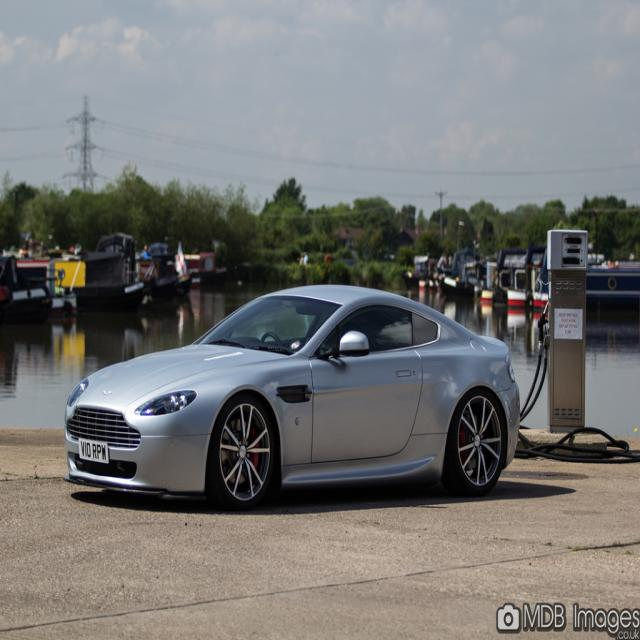car: (62, 281, 520, 509)
